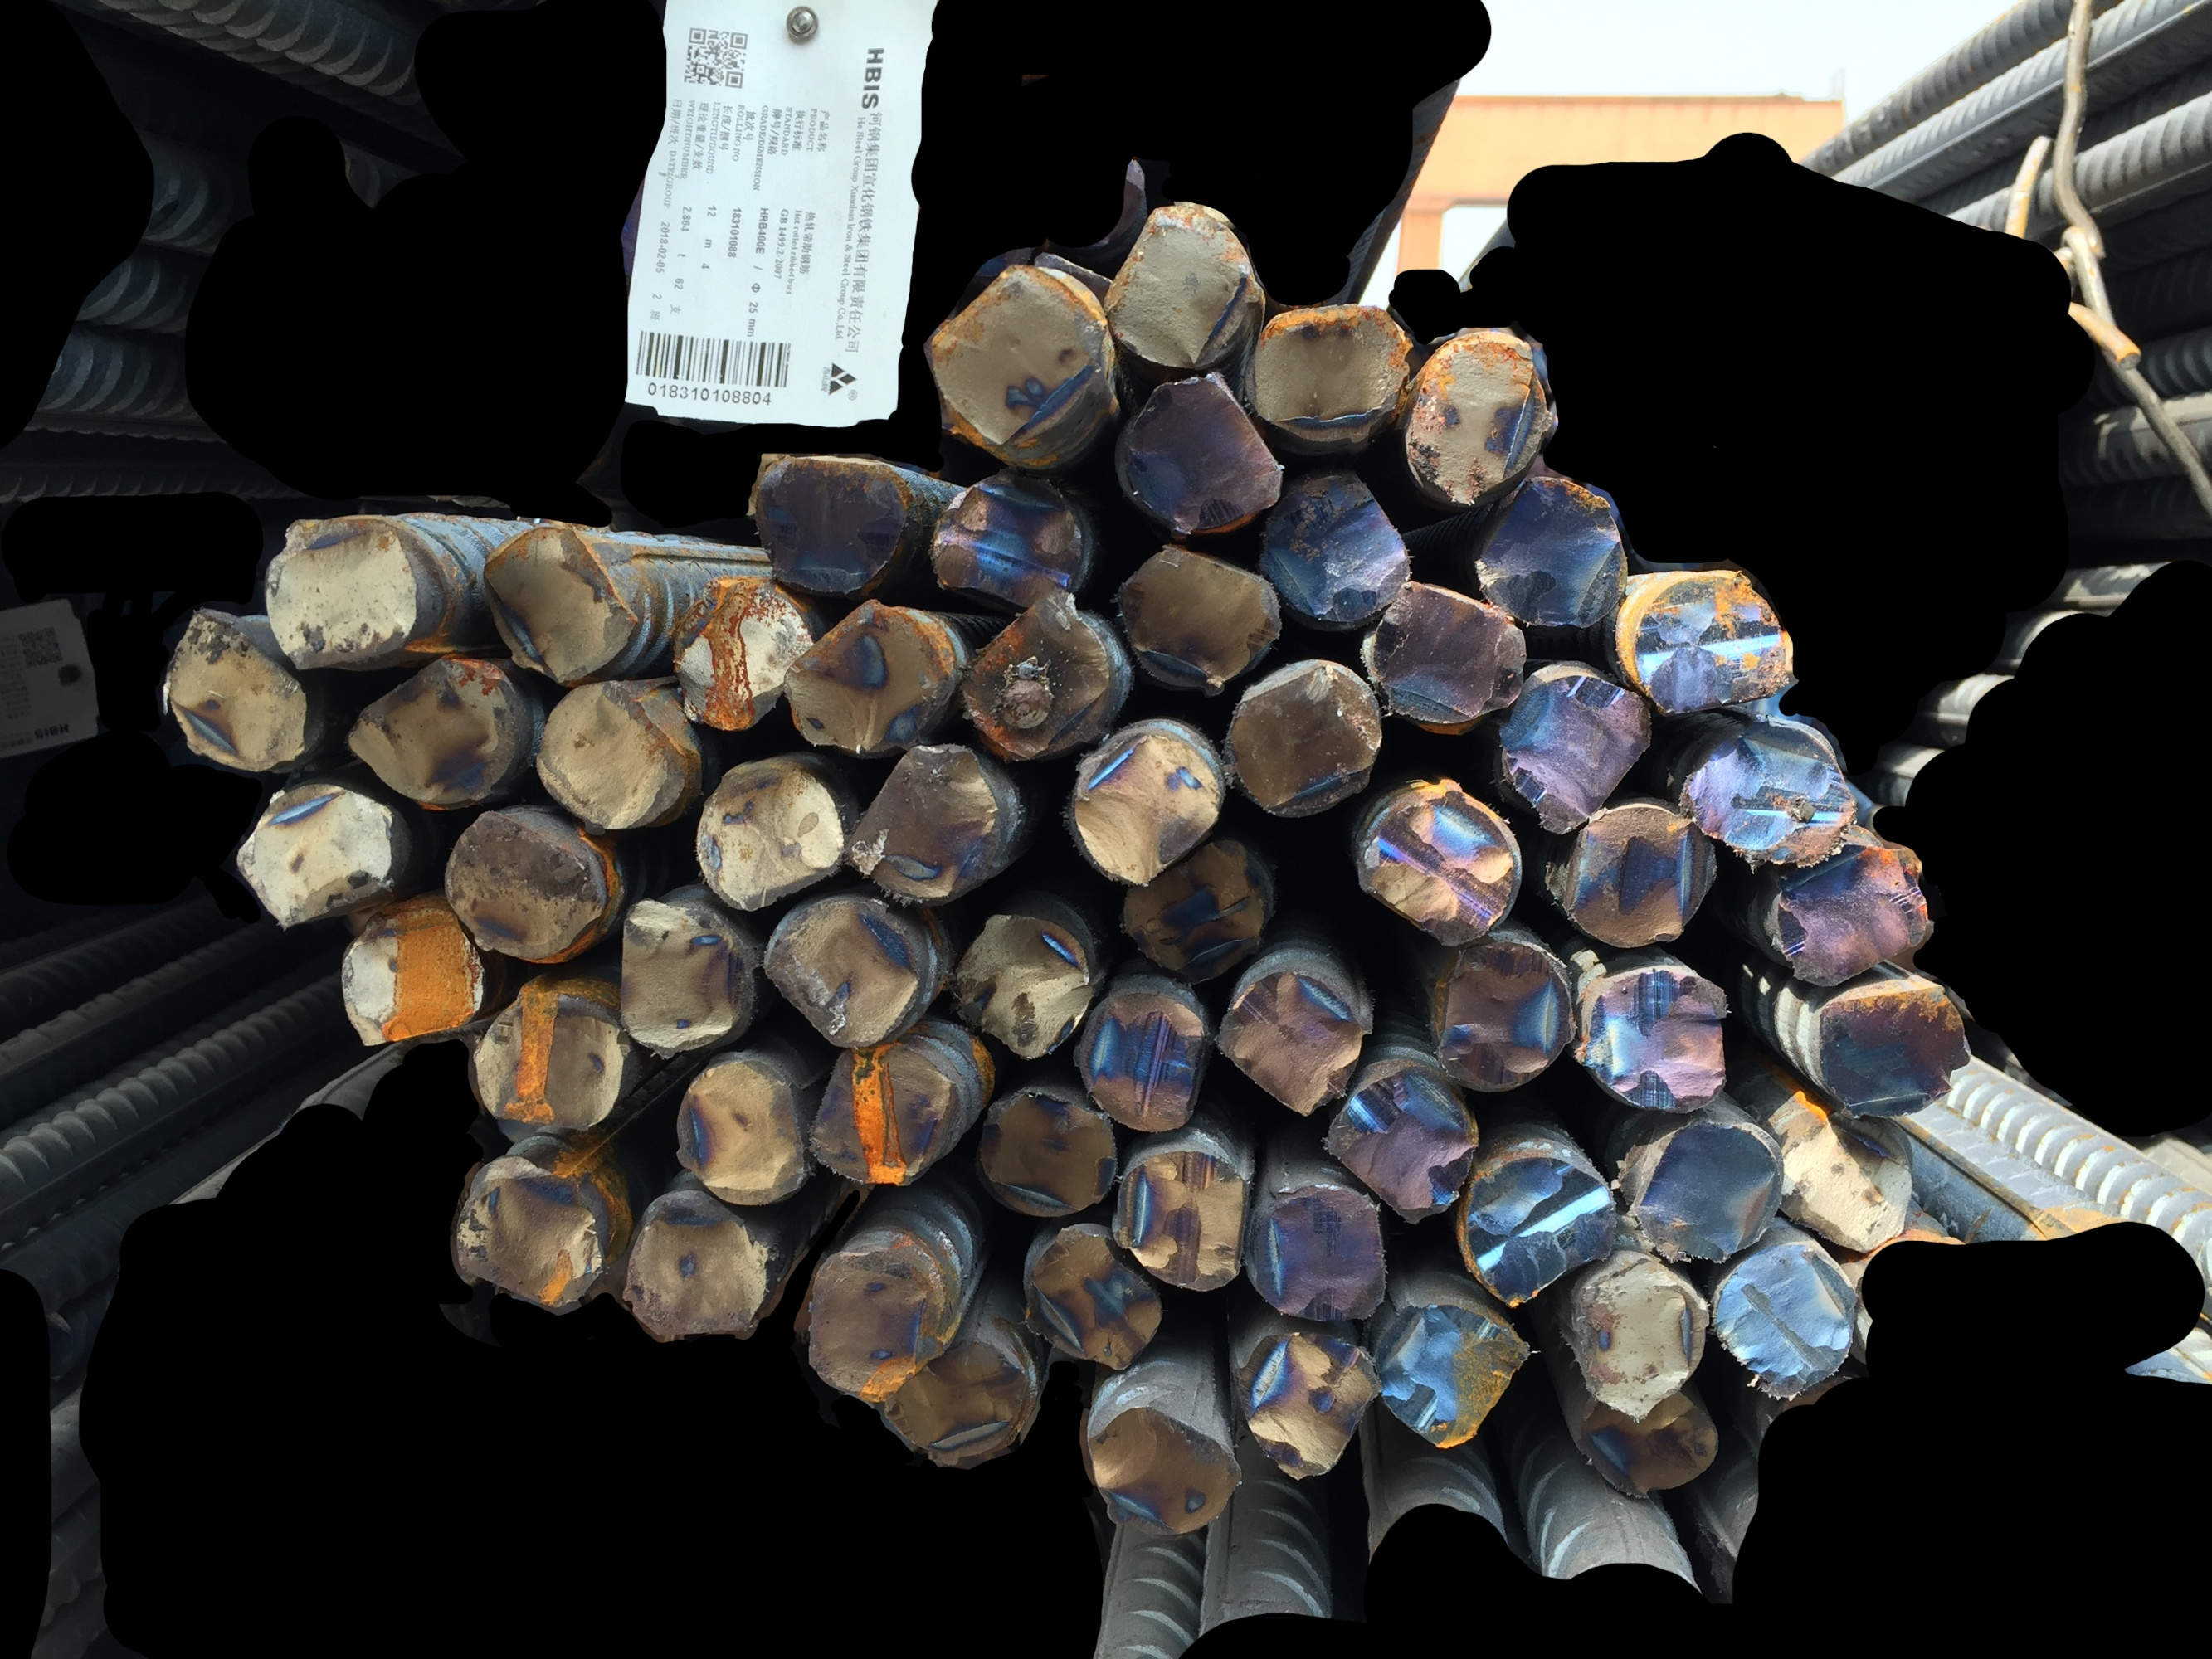rebar: (920, 256, 1116, 467), (777, 591, 957, 763), (1313, 1056, 1492, 1229), (1677, 711, 1869, 870), (1098, 197, 1271, 373), (338, 652, 525, 814), (1351, 781, 1523, 951), (1114, 368, 1288, 537), (955, 586, 1117, 767), (1400, 328, 1558, 512), (1537, 798, 1724, 955), (1562, 1241, 1715, 1429), (474, 521, 643, 690), (1492, 666, 1658, 838), (1360, 570, 1534, 734), (1452, 1147, 1625, 1310), (228, 774, 404, 934), (1109, 538, 1290, 694), (258, 511, 429, 674), (155, 599, 312, 777), (1469, 469, 1637, 633), (1222, 660, 1389, 824), (1363, 1297, 1537, 1453), (1248, 469, 1417, 629), (436, 805, 603, 965), (662, 570, 823, 737), (451, 1150, 612, 1317), (1571, 962, 1741, 1119), (840, 741, 1002, 904), (690, 756, 856, 917), (760, 896, 929, 1053), (1069, 721, 1225, 890), (1623, 568, 1795, 721), (940, 906, 1103, 1066), (1706, 1236, 1867, 1399), (922, 464, 1091, 619), (1766, 842, 1940, 992), (528, 674, 690, 835), (1114, 829, 1274, 992), (1625, 1112, 1792, 1267), (750, 448, 913, 605), (1422, 932, 1579, 1096), (1246, 298, 1417, 448), (1229, 1326, 1388, 1486), (615, 1190, 777, 1345), (802, 1037, 966, 1188), (335, 899, 492, 1054), (1018, 1218, 1173, 1375), (1211, 964, 1368, 1119), (802, 1246, 955, 1405), (467, 988, 629, 1138), (1077, 1398, 1248, 1539), (1241, 1175, 1394, 1330), (1774, 1103, 1923, 1260), (1811, 985, 1977, 1124), (1107, 1145, 1257, 1297), (877, 1331, 1041, 1469), (1069, 985, 1211, 1140), (610, 892, 743, 1060), (671, 1056, 814, 1209), (969, 1084, 1124, 1223), (1571, 1377, 1726, 1504)
